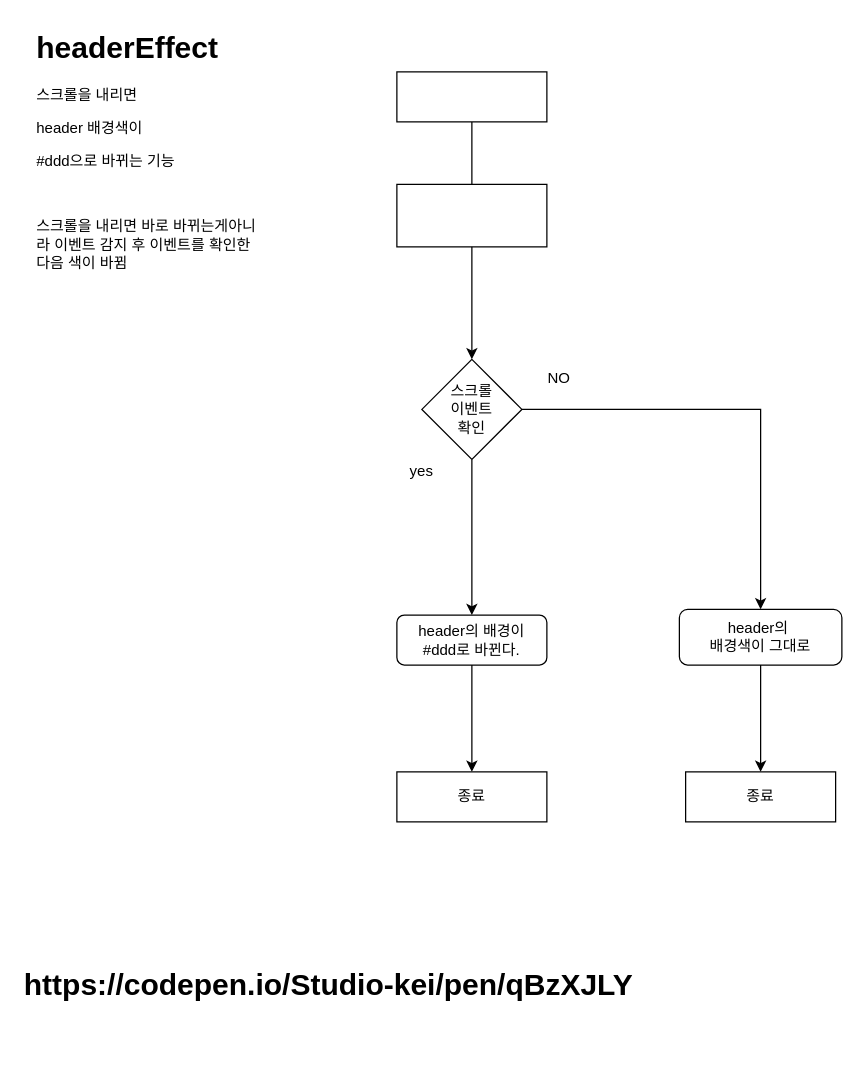
This 864x1084 diagram has some shape labels left out. The shapes that lost their labels are listed below. From the top down, each one's box as (x1, y1, x2, y2) in pixels, then its label:
(396, 71, 547, 122): 시작
(396, 183, 547, 247): 스크롤 이벤트를 감지
